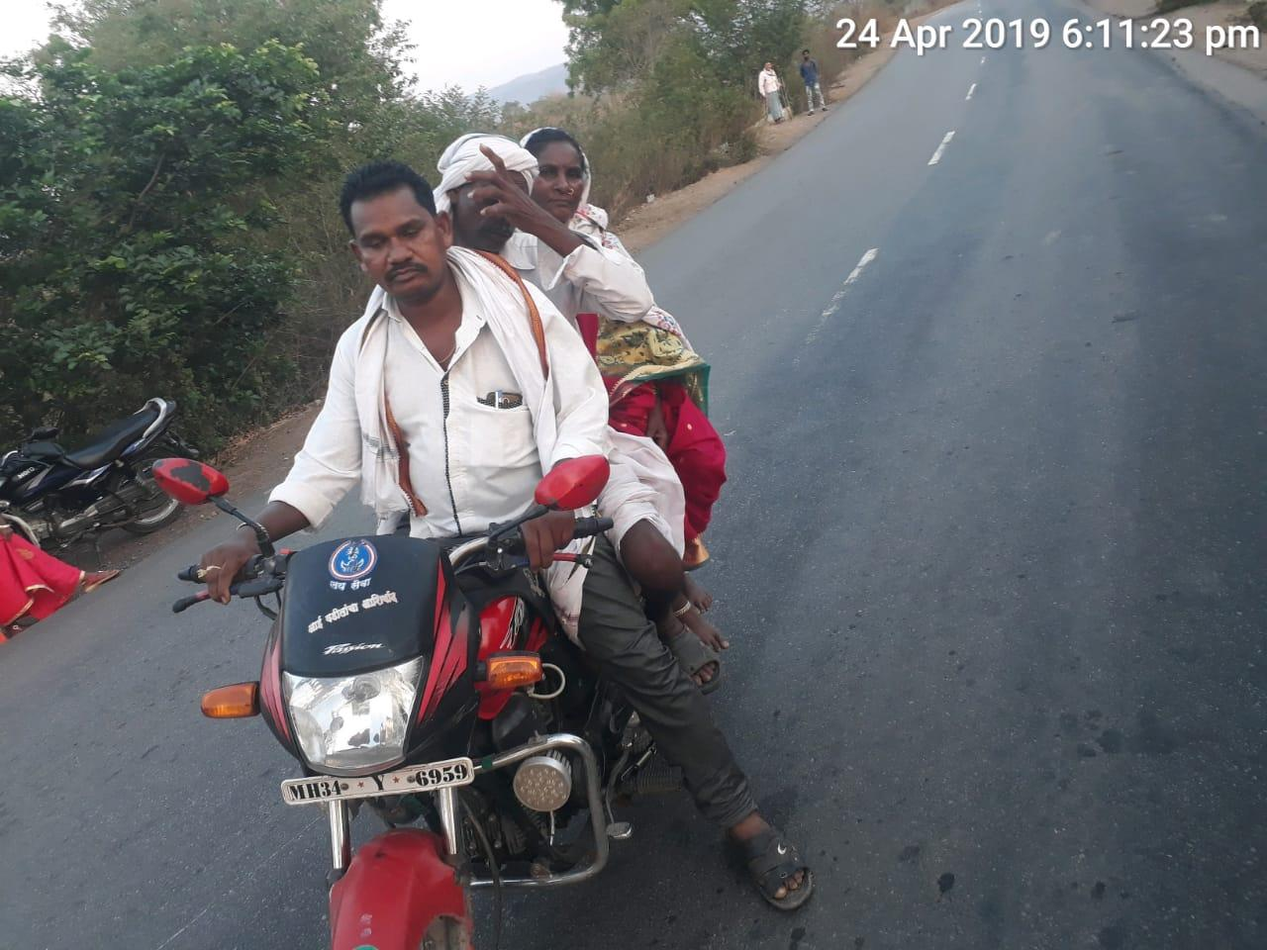plate: (268, 742, 492, 817)
